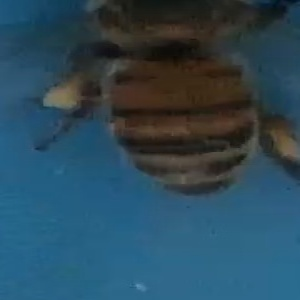bee: (13, 1, 297, 203)
